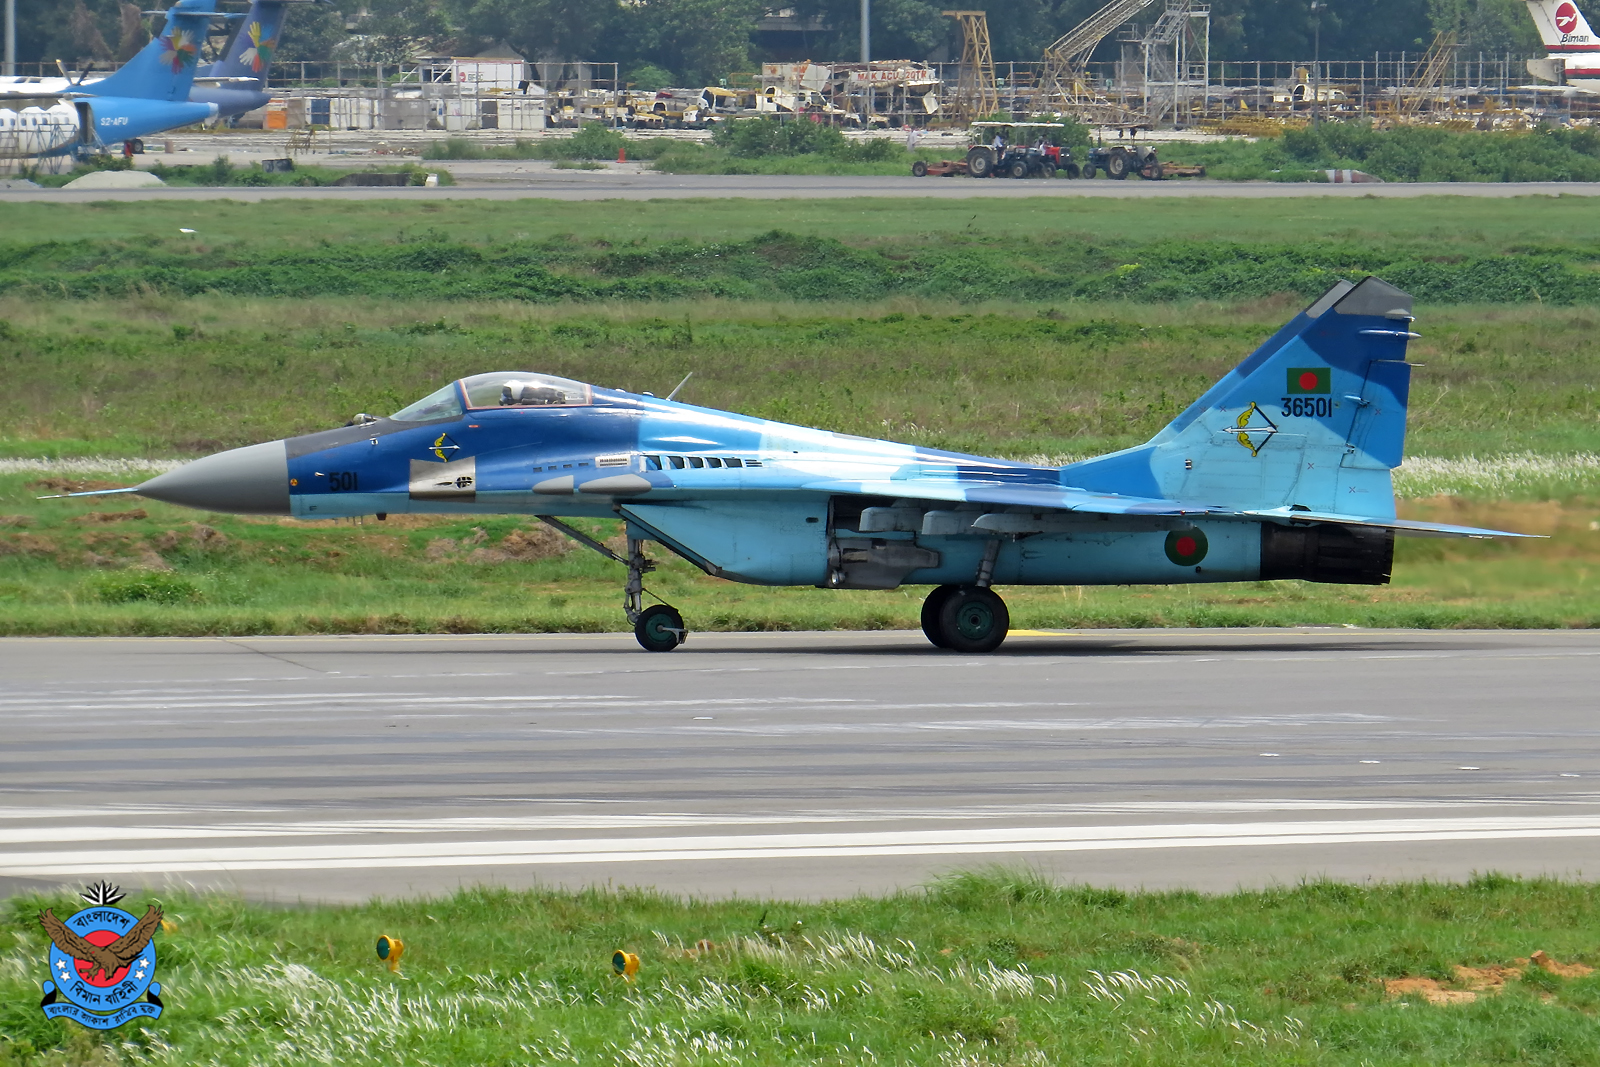Bangladesh: (1165, 522, 1208, 568), (1285, 366, 1335, 394)
Bangladesh_Air_Force: (15, 872, 206, 1046)
Mig-29: (99, 254, 1518, 688)
